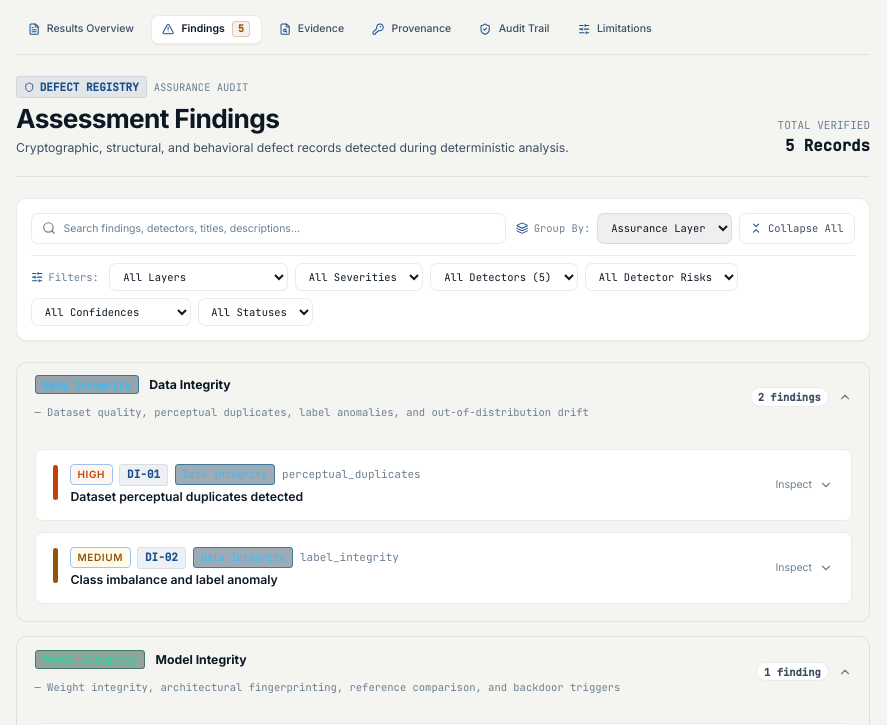
Test: Findings Filters and Grouping Component › filters by Severity and updates active filters pill
The image size is (887, 725).
Expected: the heading "Assessment Findings" is shown, [16,103,279,134]
Select "Critical" in the dropdown named "Filter by severity" at (359,277), box [295,263,423,291]
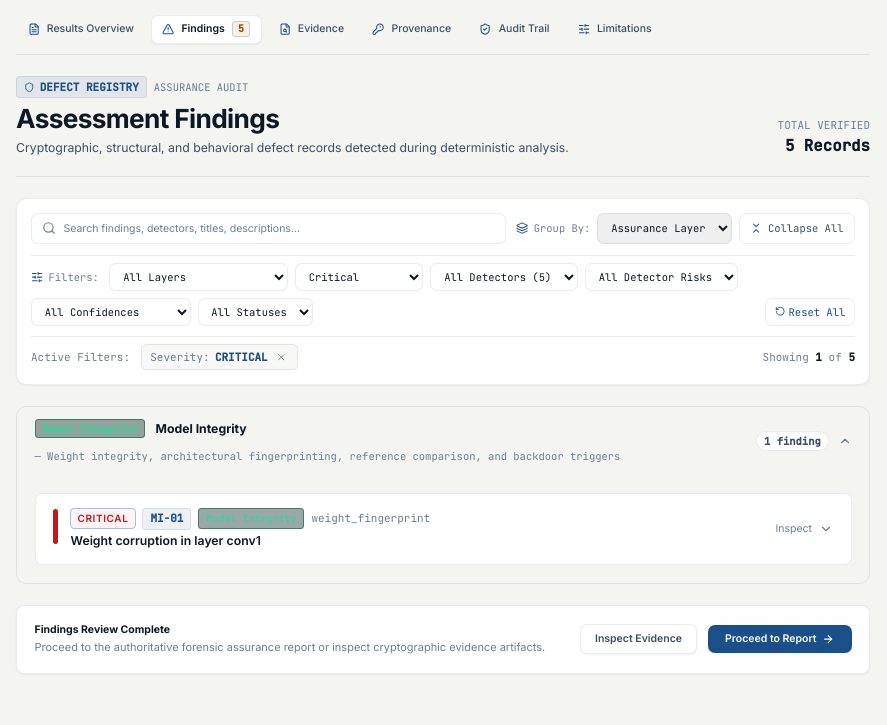
Expected: the text "Weight corruption in layer conv1" is shown, [70,533,261,548]
Result: the button "Dataset perceptual duplicates detected" is gone
Result: the text "Showing 1 of 5" is shown at [762,349,855,365]
